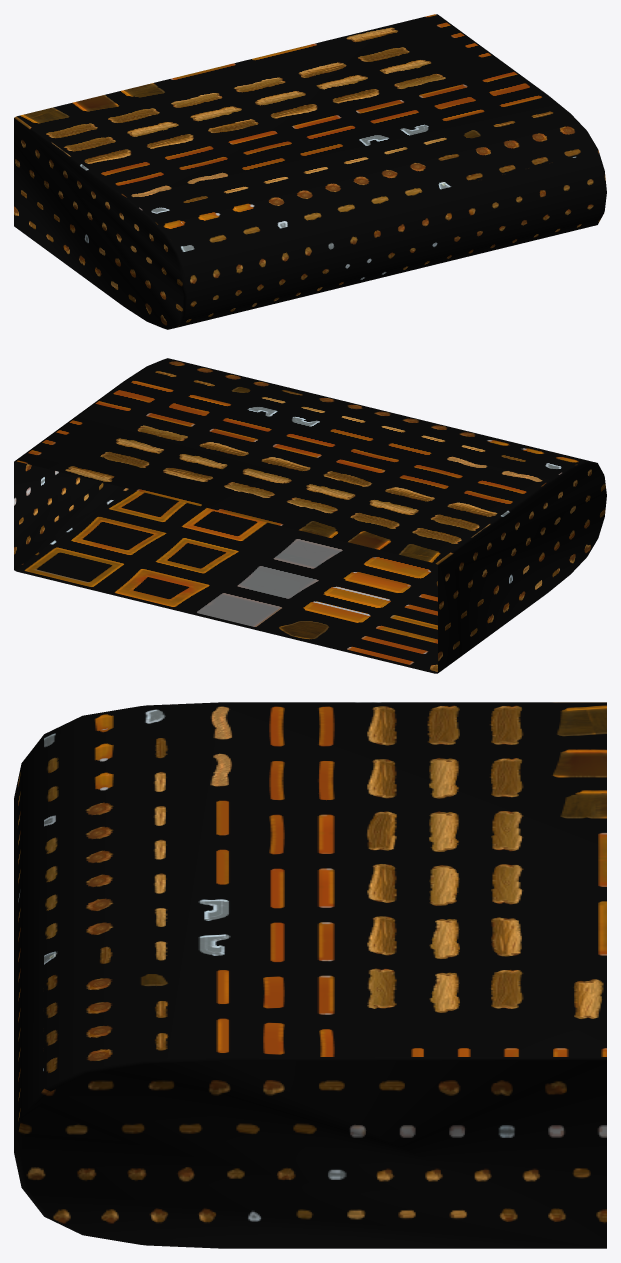
The picture shows the model from 3 angles, top to bottom: view 1: azimuth 30°, elevation 25°; view 2: azimuth 150°, elevation 25°; view 3: azimuth 270°, elevation 25°; orthographic projection. The views are drawn at different scales.
Parts seen in each view (by area): view 1: Cube.001_Baked; view 2: Cube.001_Baked; view 3: Cube.001_Baked.
Part boxes in pixels (<box>): Cube.001_Baked: <box>14,14,606,329</box>; Cube.001_Baked: <box>14,358,606,673</box>; Cube.001_Baked: <box>14,702,606,1248</box>.
Size of the model in its own units: 66.83 by 16.61 by 46.7.
1 material, 1 textured.
